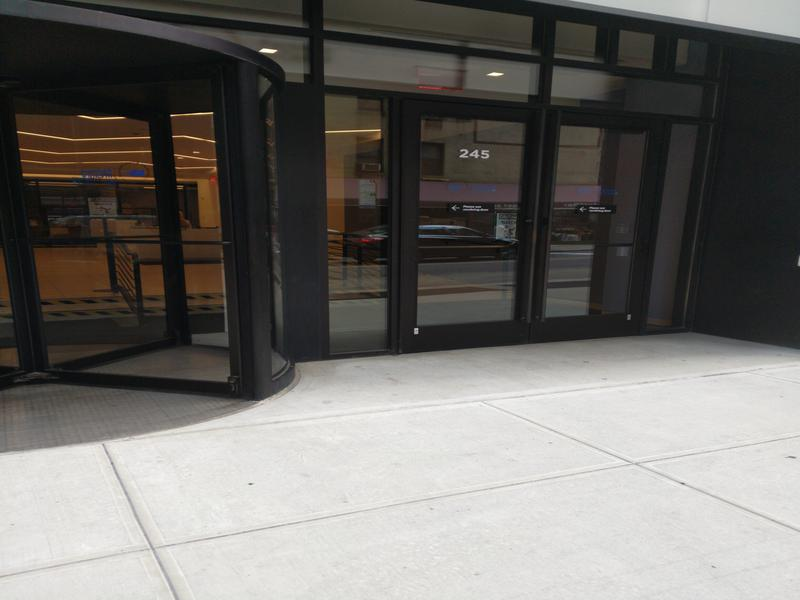double_door: (397, 89, 660, 346)
revolving_door: (2, 1, 299, 408)
